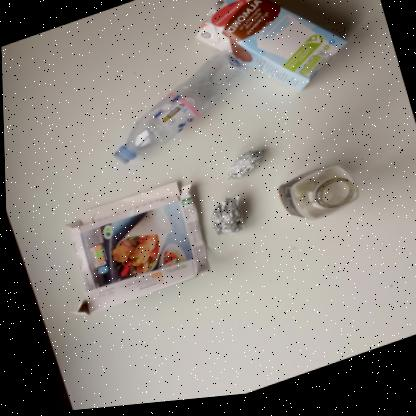Metal: (209, 200, 243, 238), (226, 153, 263, 184)
Paper: (64, 184, 209, 316), (194, 0, 348, 97)
Plastic: (111, 54, 248, 166), (275, 171, 357, 225)
